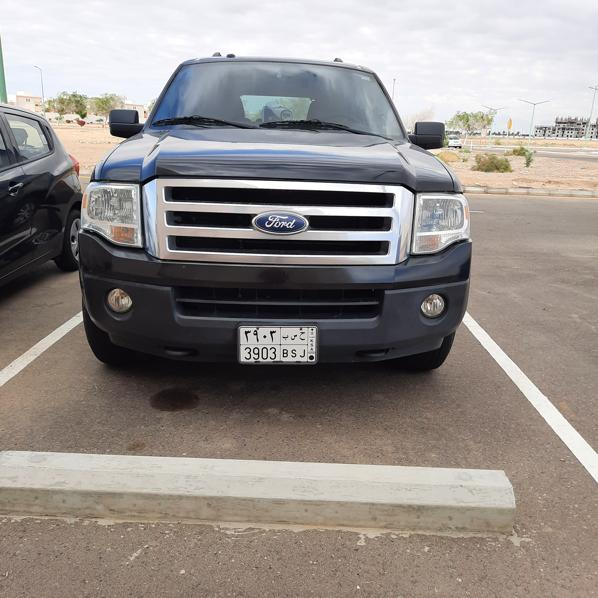numberplate: (240, 326, 317, 362)
